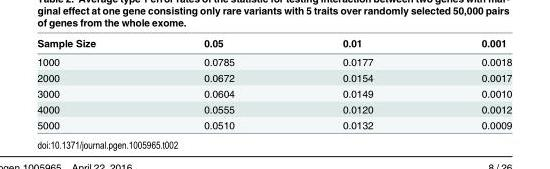table: (36, 36, 511, 130)
table column: (287, 36, 426, 130), (149, 36, 287, 130), (36, 36, 149, 130), (426, 36, 511, 130)
table column header: (36, 36, 511, 52)
table row: (36, 52, 511, 69), (36, 36, 511, 52), (36, 69, 511, 85), (36, 85, 511, 101), (36, 101, 511, 116), (36, 116, 511, 130)
